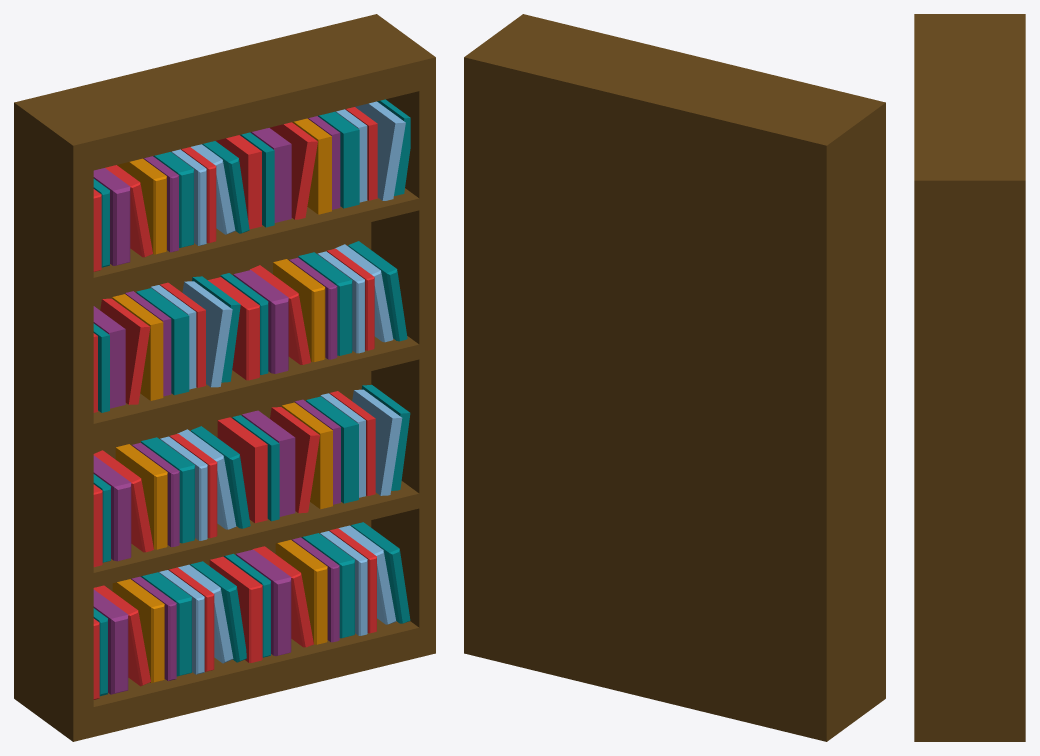
The model's file is Bookshelf.fbx.
3 views of the same model, side by side, from view 1: azimuth 30°, elevation 25°; view 2: azimuth 150°, elevation 25°; view 3: azimuth 270°, elevation 25° (orthographic). The views are drawn at different scales.
Visible parts, largest first — view 1: Bookshelf1; view 2: Bookshelf1; view 3: Bookshelf1.
Part boxes in pixels (box(x1,y1,x2,y2)): Bookshelf1: box(14, 14, 435, 741); Bookshelf1: box(464, 14, 885, 741); Bookshelf1: box(914, 14, 1025, 741).
Bounding box in the file's own units: 134 × 210 × 37.72.
